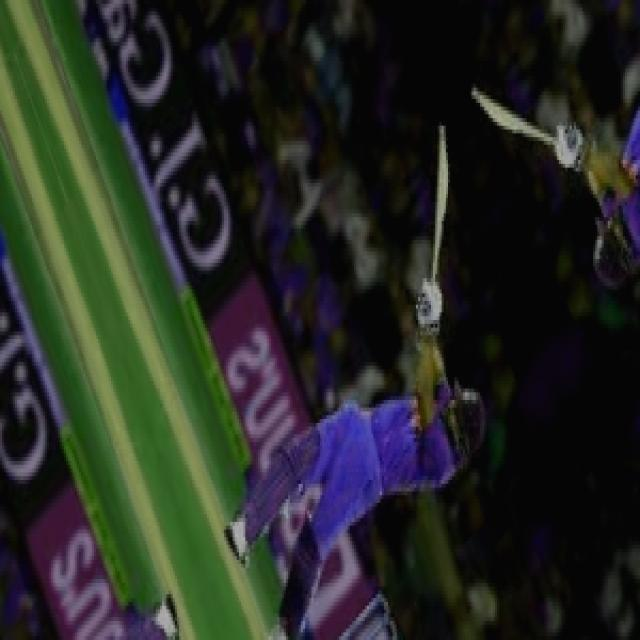toe: (434, 120, 452, 156)
